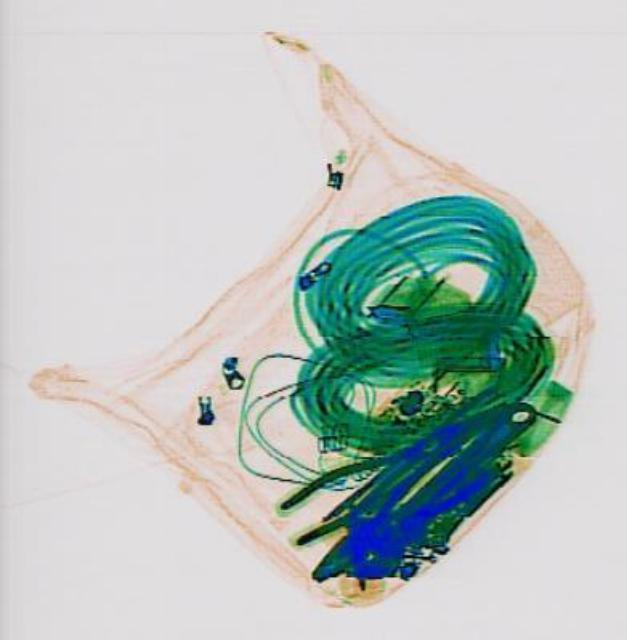Pliers: (291, 433, 490, 602), (270, 411, 465, 545)
Wrench: (337, 386, 544, 594)
